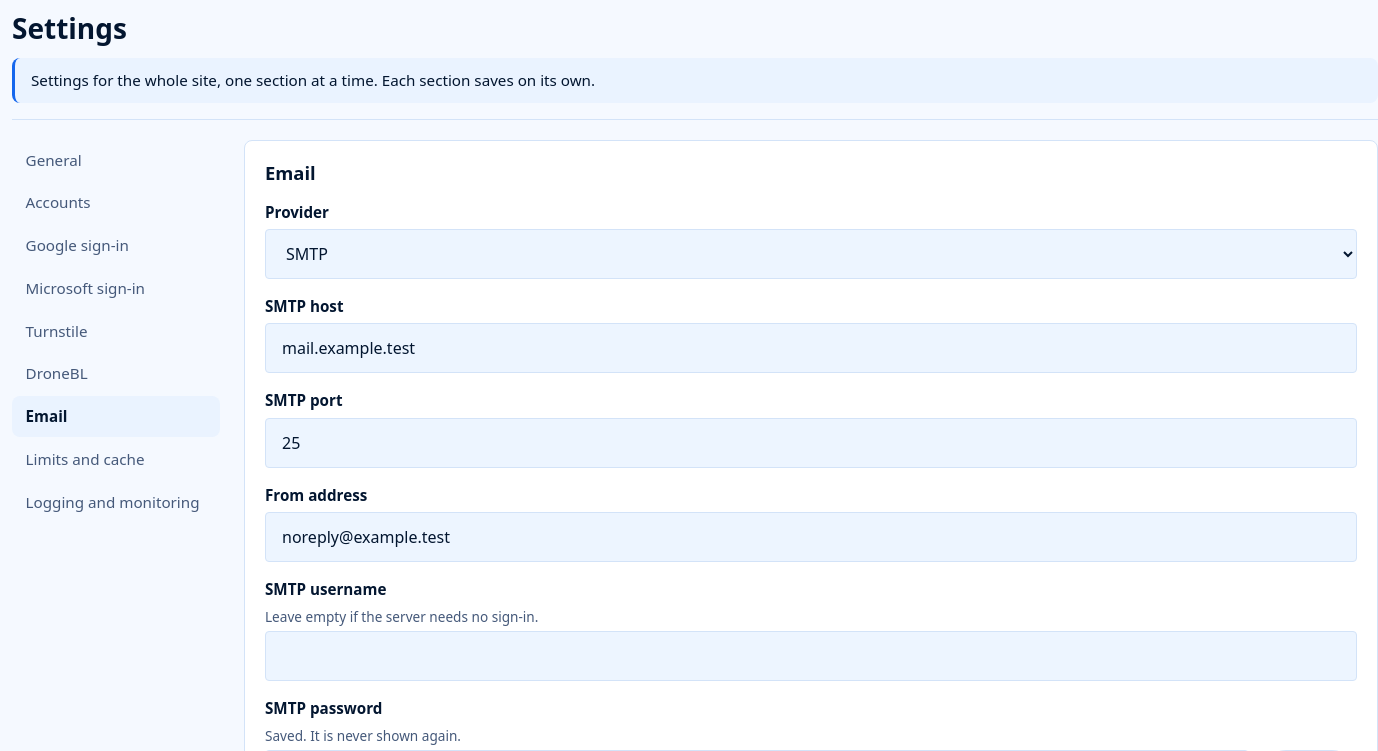
Scenario: AdminSettingsPage › shows the fields that belong to the chosen email provider
Select "Cloudflare Email Service" in the dropdown labelled "Provider" at (811, 254), box [265,229,1357,279]
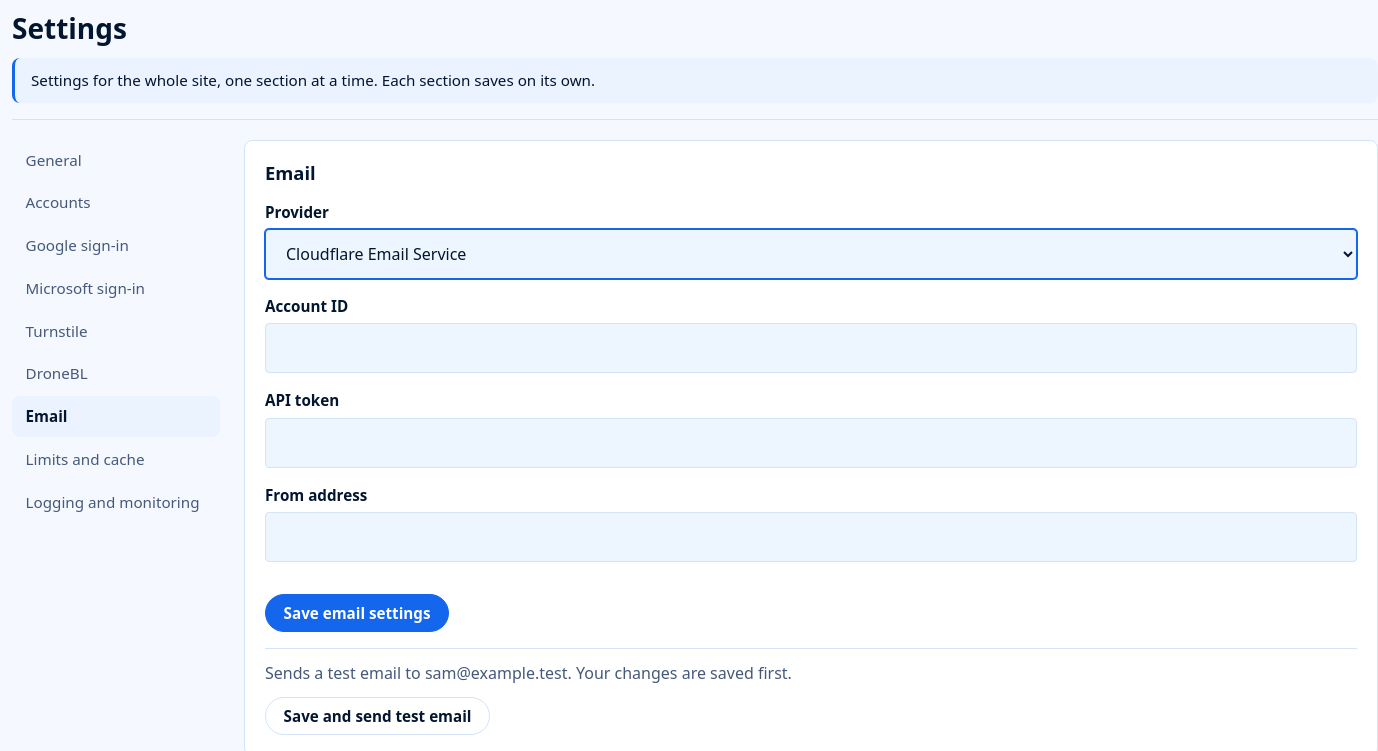
Result: the label "SMTP host" is gone
Result: the field labelled "Account ID" is shown at [265,324,1357,374]
